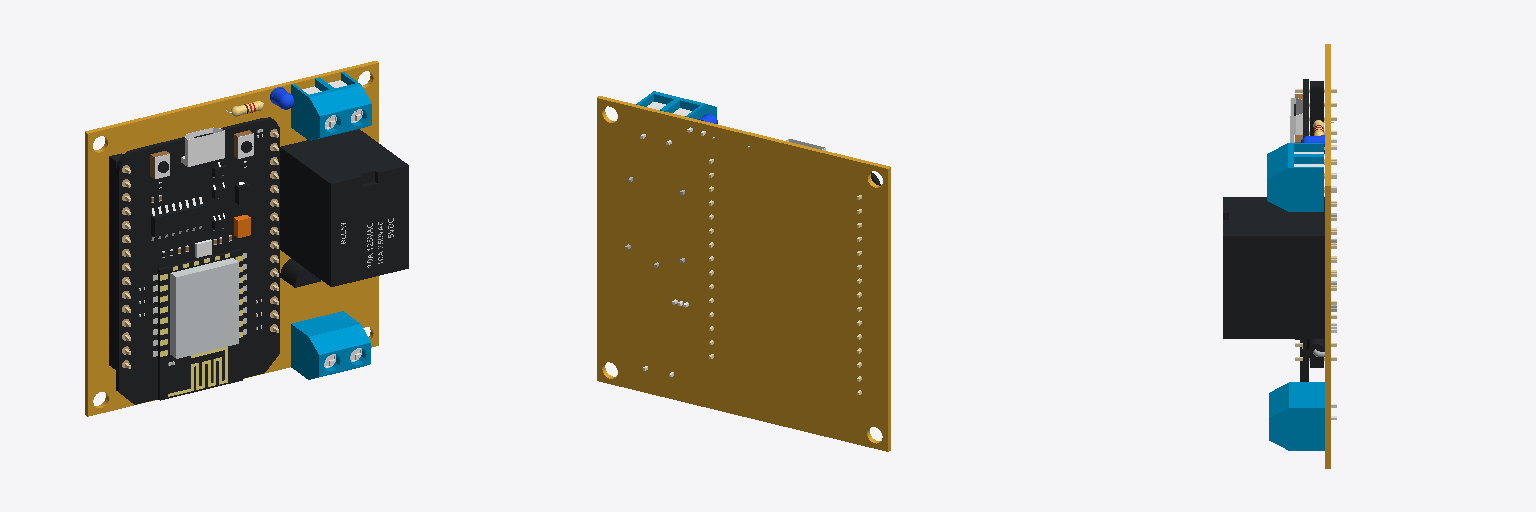
The model's file is tinker.obj.
The picture shows the model from 3 angles: view 1: azimuth 30°, elevation 25°; view 2: azimuth 150°, elevation 25°; view 3: azimuth 270°, elevation 25°; orthographic projection.
Parts seen in each view (by area): view 1: obj_0; view 2: obj_0; view 3: obj_0.
Part boxes in pixels (x1,y1,x2,y2): obj_0: (85, 61, 408, 416); obj_0: (597, 91, 890, 451); obj_0: (1223, 44, 1336, 468).
Size of the model in its own units: 56.1 by 52.1 by 19.